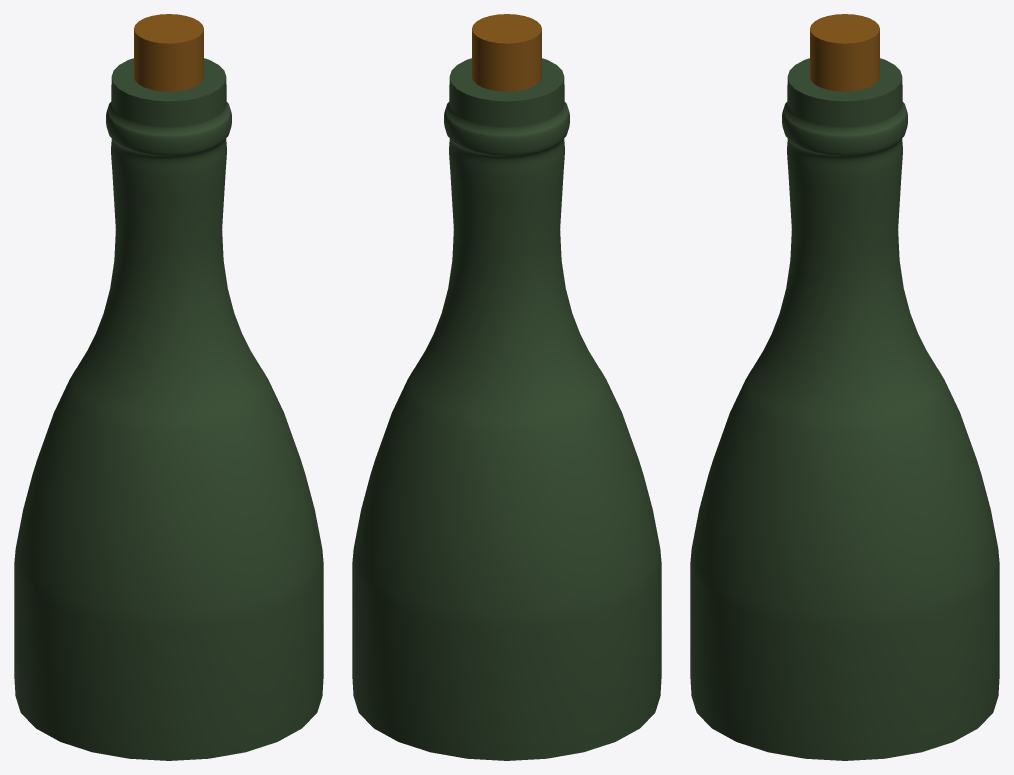
Rendered from Champagne.fbx.
3 views of the same model, side by side, from view 1: azimuth 30°, elevation 25°; view 2: azimuth 150°, elevation 25°; view 3: azimuth 270°, elevation 25° (orthographic).
Visible parts, largest first — view 1: Lathe; view 2: Lathe; view 3: Lathe.
Part boxes in pixels (x1=…): Lathe: x1=14, y1=14, x2=323, y2=760; Lathe: x1=352, y1=14, x2=661, y2=760; Lathe: x1=690, y1=14, x2=999, y2=760.
Bounding box in the file's own units: 443 × 1081 × 443.
